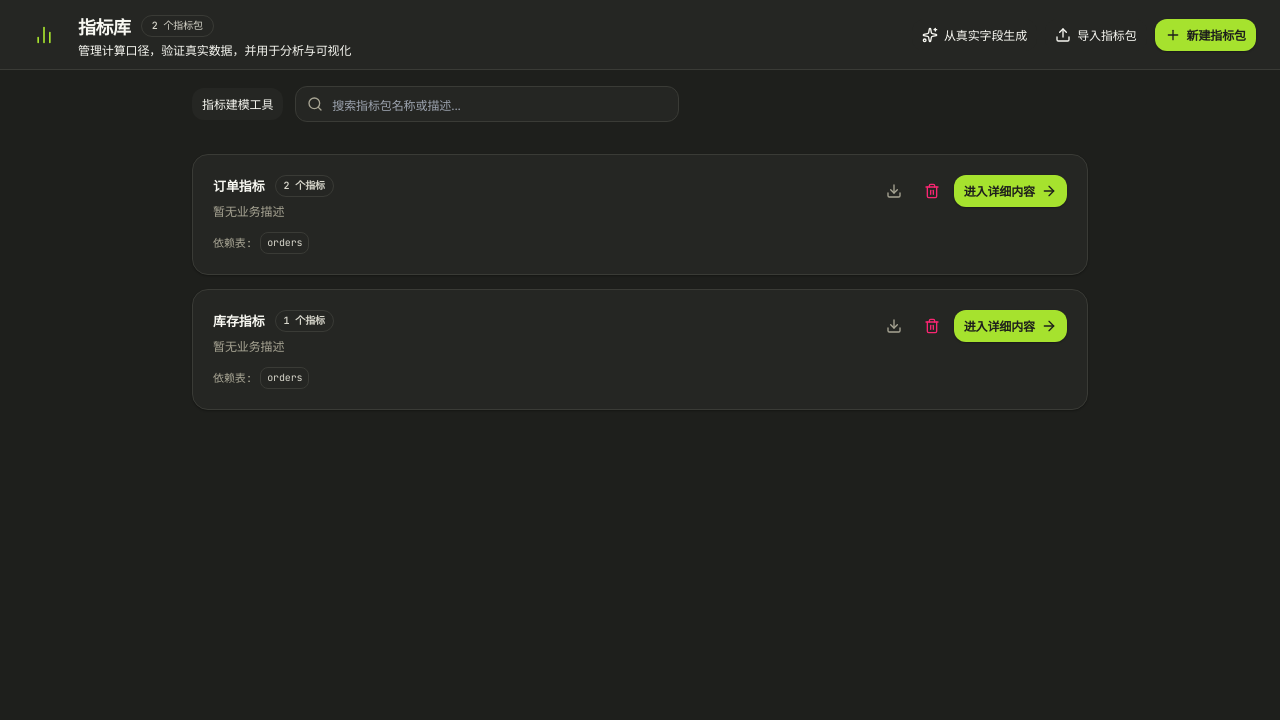
Test: MetricManager workflow regressions › clears package-specific filters when opening another package
Click the heading "订单指标" at (239, 186), box top-left (213, 177), bottom-right (264, 195)
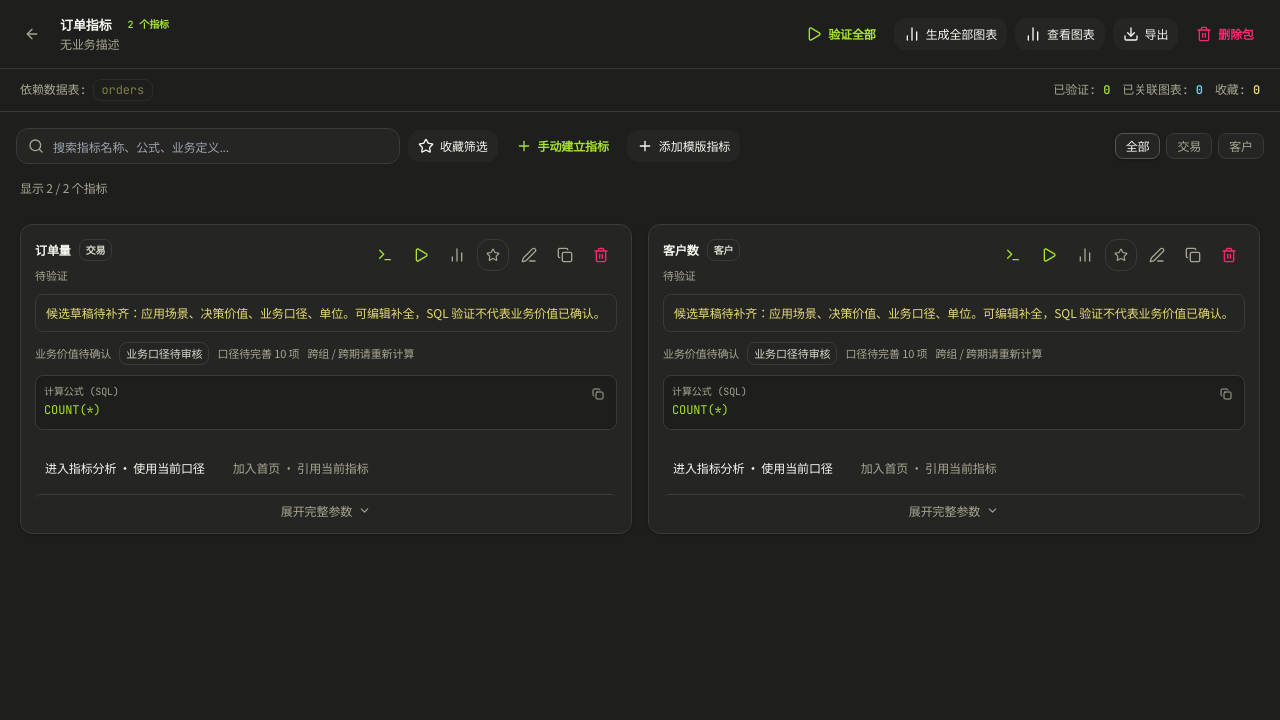
Click the button "交易" at (1189, 146), box top-left (1166, 133), bottom-right (1212, 159)
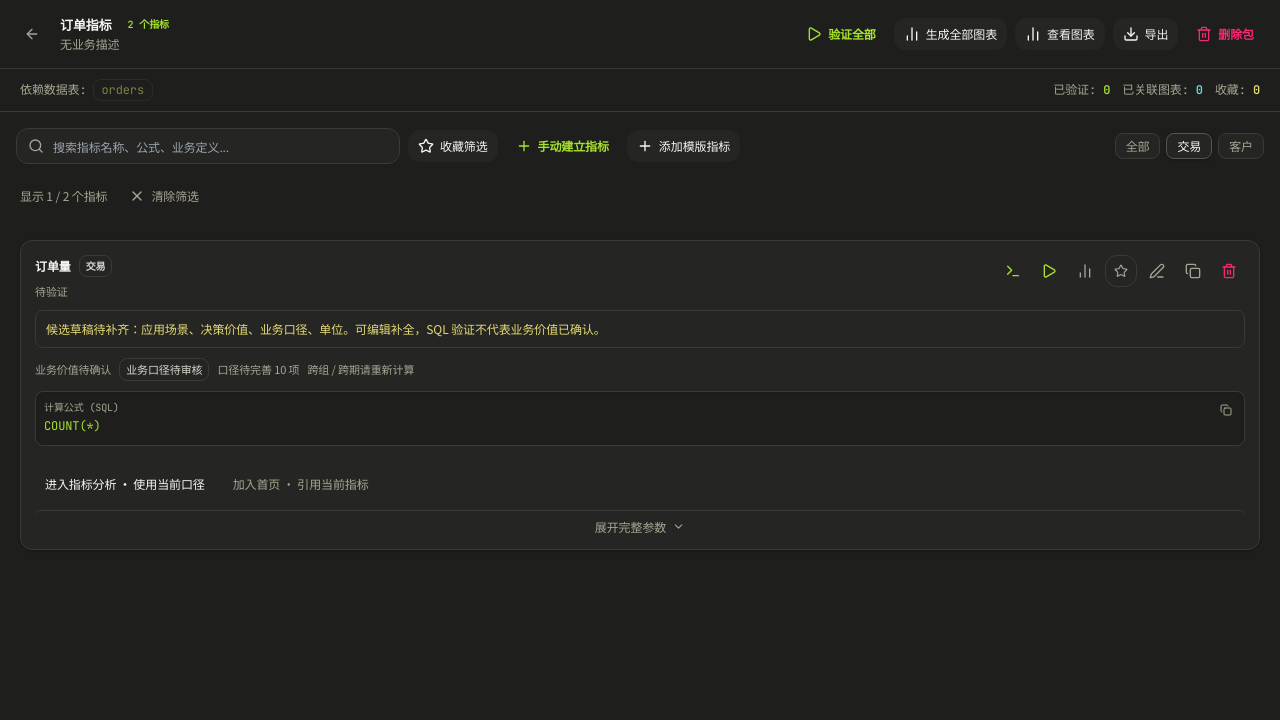
Click the button named "返回指标包列表" at (32, 34), box top-left (16, 18), bottom-right (48, 50)
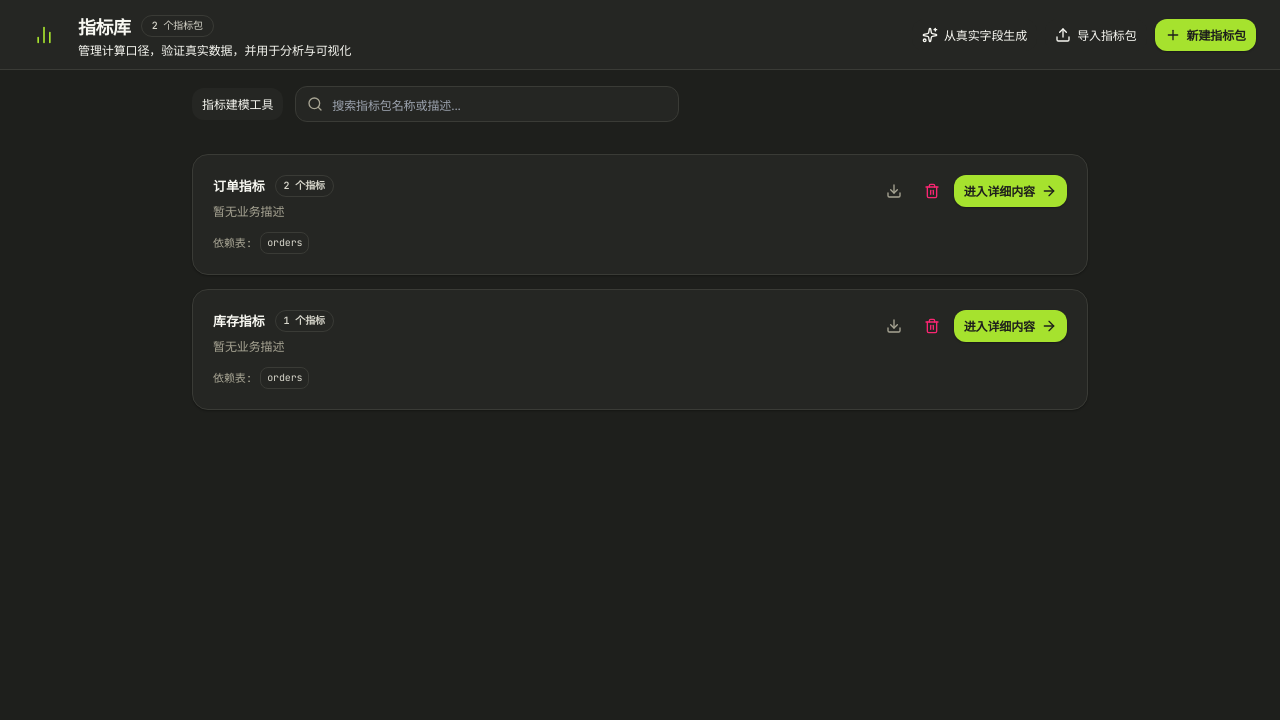
Click the heading "库存指标" at (239, 321), box top-left (213, 312), bottom-right (264, 330)
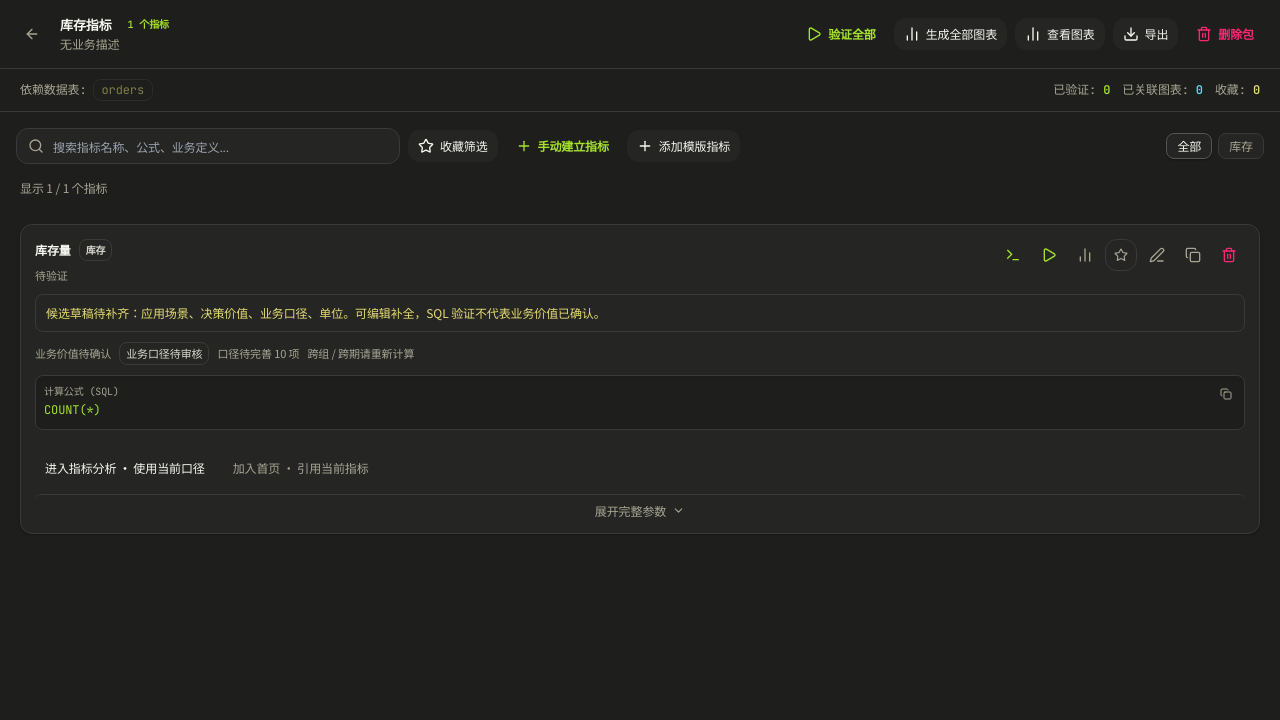
Now the text "库存量" is shown, box top-left (35, 242), bottom-right (71, 258)
